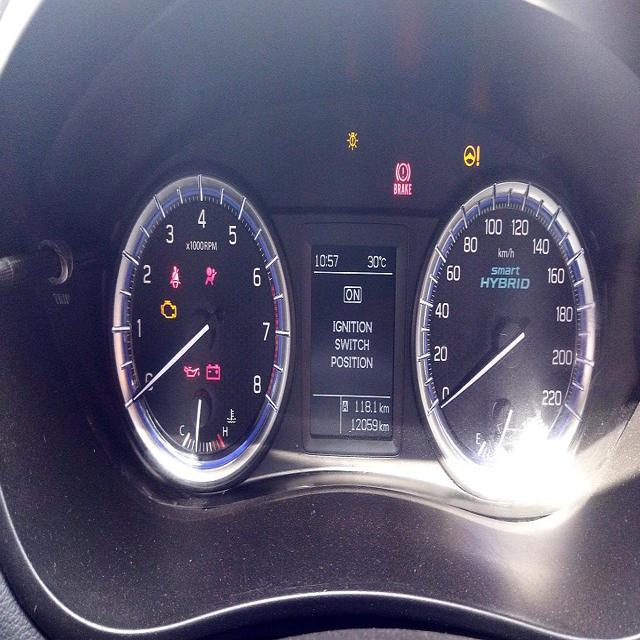odometer: (348, 413, 379, 436)
